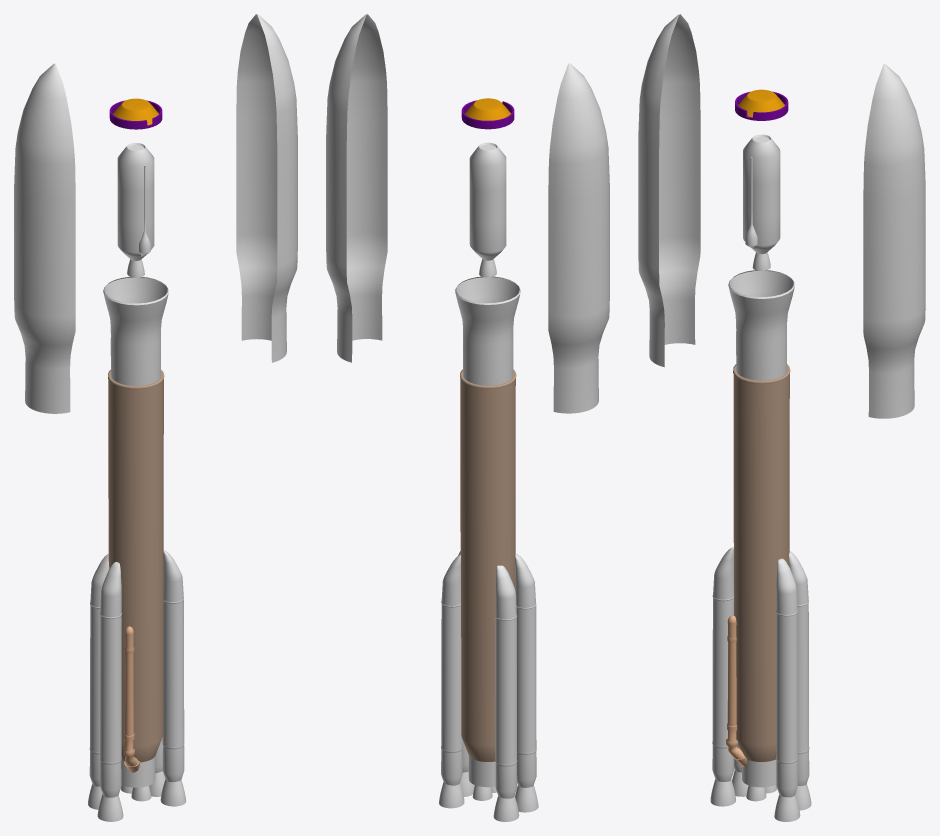
Rendered from Atlas 451 Export.fbx.
3 renders of one model, left to right at view 1: azimuth 30°, elevation 25°; view 2: azimuth 150°, elevation 25°; view 3: azimuth 330°, elevation 25°, orthographic.
Visible parts, largest first — view 1: Rocket_Shell_Geo_01, Rocket_Shell_Geo_02, Stage_02_Rocket_Base_Geo, Rocket_Part_Geo_06, Rocker_Booster_Geo_01, Rocker_Booster_Geo_02, Centaur_Rocket_Geo, Rocker_Booster_Geo_03, Payload_Geo1, Stage_02_Part_Geo_01, Stage_02_Engine_Part_Geo, Booster_Engine_Geo3 (+1 smaller); view 2: Rocket_Shell_Geo_01, Rocket_Shell_Geo_02, Stage_02_Rocket_Base_Geo, Rocket_Part_Geo_06, Rocker_Booster_Geo_03, Rocker_Booster_Geo_04, Rocker_Booster_Geo_01, Centaur_Rocket_Geo, Payload_Geo1, Stage_02_Engine_Part_Geo, Booster_Engine_Geo4, Booster_Engine_Geo1 (+1 smaller); view 3: Rocket_Shell_Geo_02, Stage_02_Rocket_Base_Geo, Rocket_Shell_Geo_01, Rocket_Part_Geo_06, Rocker_Booster_Geo_02, Rocker_Booster_Geo_01, Centaur_Rocket_Geo, Rocker_Booster_Geo_04, Payload_Geo1, Stage_02_Part_Geo_01, Stage_02_Engine_Part_Geo, Booster_Engine_Geo2 (+1 smaller).
Part boxes in pixels (x1,y1,x2,y2): Rocket_Shell_Geo_01: (14, 63, 75, 413); Rocket_Shell_Geo_02: (236, 14, 297, 362); Stage_02_Rocket_Base_Geo: (108, 370, 164, 762); Rocket_Part_Geo_06: (103, 276, 168, 385); Rocker_Booster_Geo_01: (100, 562, 121, 797); Rocker_Booster_Geo_02: (162, 550, 184, 782); Centaur_Rocket_Geo: (117, 143, 154, 260); Rocker_Booster_Geo_03: (89, 554, 109, 786); Payload_Geo1: (109, 98, 162, 129); Stage_02_Part_Geo_01: (124, 626, 134, 740); Stage_02_Engine_Part_Geo: (121, 756, 155, 787); Booster_Engine_Geo3: (97, 794, 123, 821); Rocket_Shell_Geo_01: (548, 63, 609, 413); Rocket_Shell_Geo_02: (326, 14, 387, 362); Stage_02_Rocket_Base_Geo: (460, 369, 516, 761); Rocket_Part_Geo_06: (455, 276, 520, 385); Rocker_Booster_Geo_03: (495, 565, 517, 798); Rocker_Booster_Geo_04: (441, 554, 462, 785); Rocker_Booster_Geo_01: (515, 554, 536, 787); Centaur_Rocket_Geo: (469, 142, 506, 260); Payload_Geo1: (461, 98, 514, 129); Stage_02_Engine_Part_Geo: (468, 755, 495, 787); Booster_Engine_Geo4: (493, 796, 519, 821); Booster_Engine_Geo1: (439, 782, 464, 808); Rocket_Shell_Geo_02: (863, 64, 925, 418); Stage_02_Rocket_Base_Geo: (733, 364, 790, 761); Rocket_Shell_Geo_01: (638, 14, 700, 367); Rocket_Part_Geo_06: (728, 270, 794, 380); Rocker_Booster_Geo_02: (776, 558, 798, 797); Rocker_Booster_Geo_01: (712, 547, 734, 781); Centaur_Rocket_Geo: (743, 134, 780, 254); Rocker_Booster_Geo_04: (788, 551, 809, 786); Payload_Geo1: (735, 89, 788, 120); Stage_02_Part_Geo_01: (727, 615, 736, 731); Stage_02_Engine_Part_Geo: (742, 759, 776, 787); Booster_Engine_Geo2: (774, 794, 800, 821).
Bounding box in the file's own units: 5.89 × 15.69 × 1.54.
